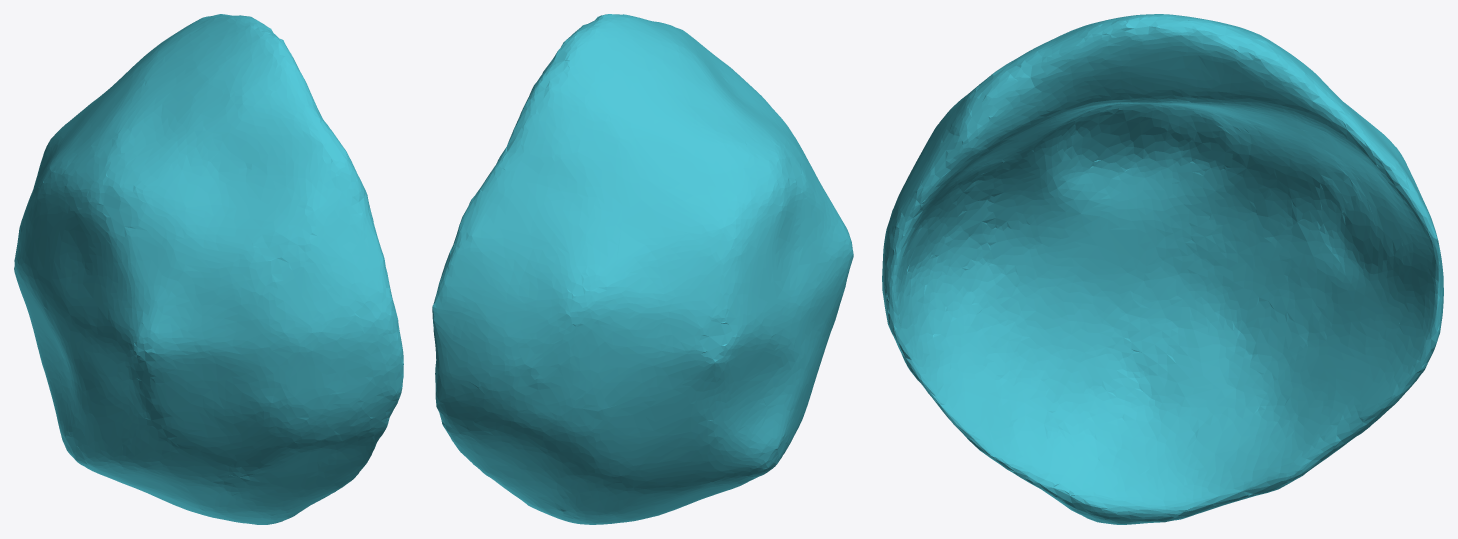
3 views of the same model, side by side, from view 1: azimuth 30°, elevation 25°; view 2: azimuth 150°, elevation 25°; view 3: azimuth 270°, elevation 25° (orthographic). The views are drawn at different scales.
Visible parts, largest first — view 1: Renderer Node; view 2: Renderer Node; view 3: Renderer Node.
Part boxes in pixels (bbox=[...]): Renderer Node: bbox=[14, 14, 403, 524]; Renderer Node: bbox=[432, 14, 853, 524]; Renderer Node: bbox=[882, 14, 1443, 524].
Size of the model in its own units: 0.3351 by 0.6713 by 0.6649.
1 material, 1 textured.
